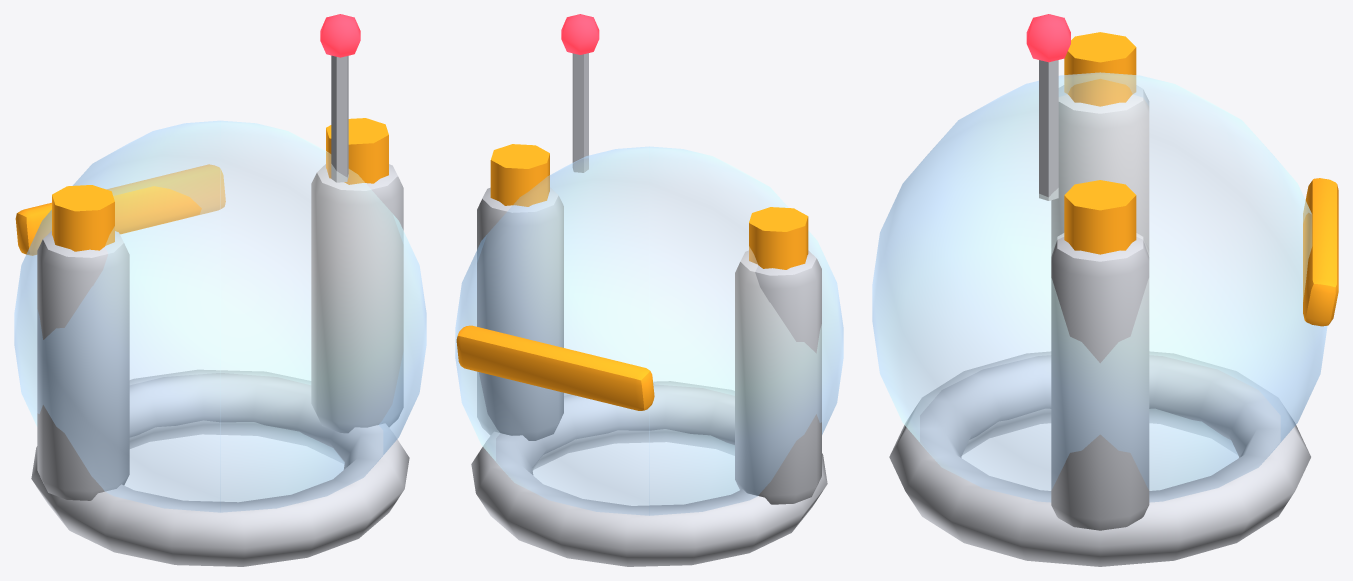
The model's file is outfit_moon.glb.
3 renders of one model, left to right at view 1: azimuth 30°, elevation 25°; view 2: azimuth 150°, elevation 25°; view 3: azimuth 270°, elevation 25°, orthographic. The views are drawn at different scales.
Visible parts, largest first — view 1: HeadMesh, PackMesh; view 2: HeadMesh, PackMesh; view 3: HeadMesh, PackMesh.
Boxes of the visible parts, x1,y1,x2,y2 form: HeadMesh: (14, 14, 426, 566); PackMesh: (37, 118, 403, 500); HeadMesh: (455, 14, 843, 566); PackMesh: (477, 144, 821, 504); HeadMesh: (872, 14, 1338, 566); PackMesh: (1051, 32, 1149, 530).
Size of the model in its own units: 0.9 by 1.18 by 0.9066.
